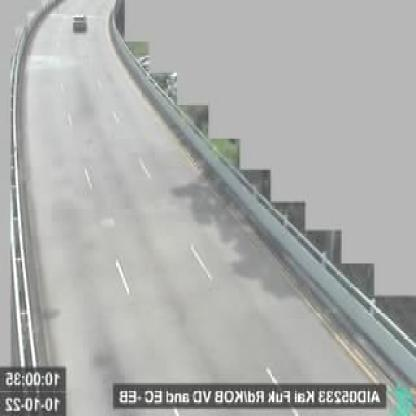Car: (71, 12, 86, 33)
